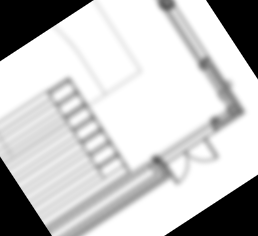double door: (162, 135, 222, 187)
wall: (47, 160, 155, 235), (55, 169, 165, 236), (197, 59, 240, 117), (209, 105, 237, 129), (146, 157, 166, 180)
